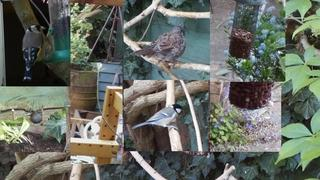dunnock: (129, 24, 186, 68)
goldfinch: (22, 24, 46, 81)
great tit: (131, 104, 184, 131)
sparrow: (26, 110, 42, 126)
